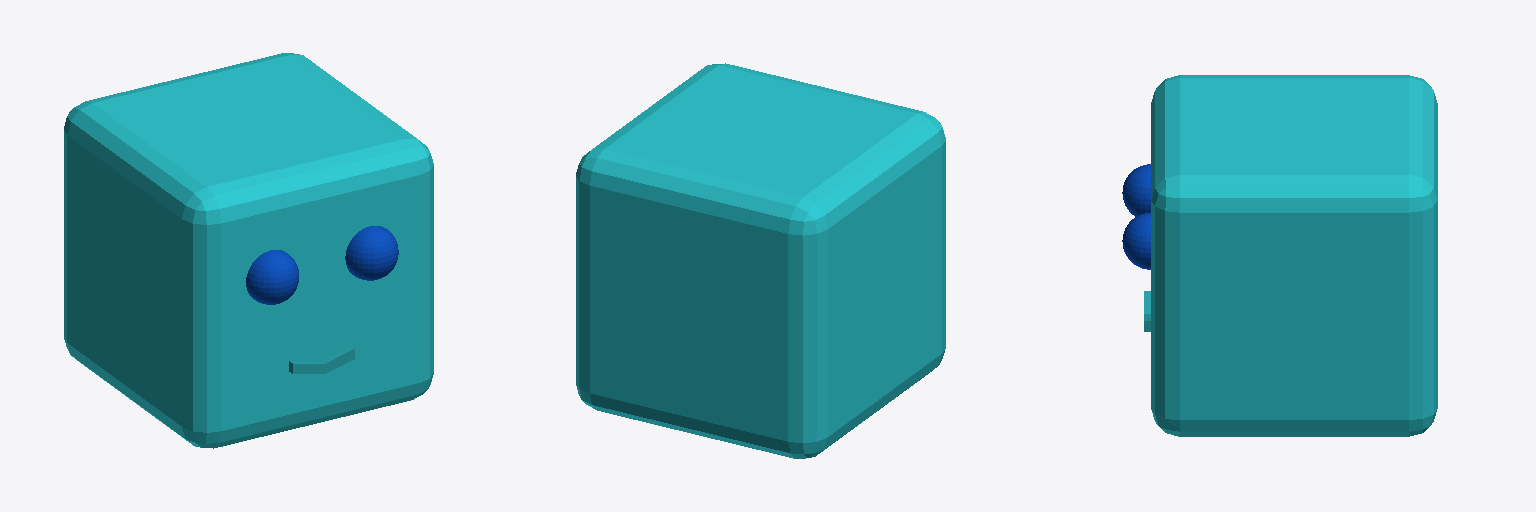
The picture shows the model from 3 angles: view 1: azimuth 30°, elevation 25°; view 2: azimuth 150°, elevation 25°; view 3: azimuth 270°, elevation 25°; orthographic projection.
Visible parts, largest first — view 1: 立方体; view 2: 立方体; view 3: 立方体.
Part boxes in pixels (x1,y1,x2,y2): 立方体: (64,53,433,448); 立方体: (576,63,945,458); 立方体: (1122,75,1437,436).
Bounding box in the file's own units: 1 × 1 × 1.1.
1 materials, 1 textured.